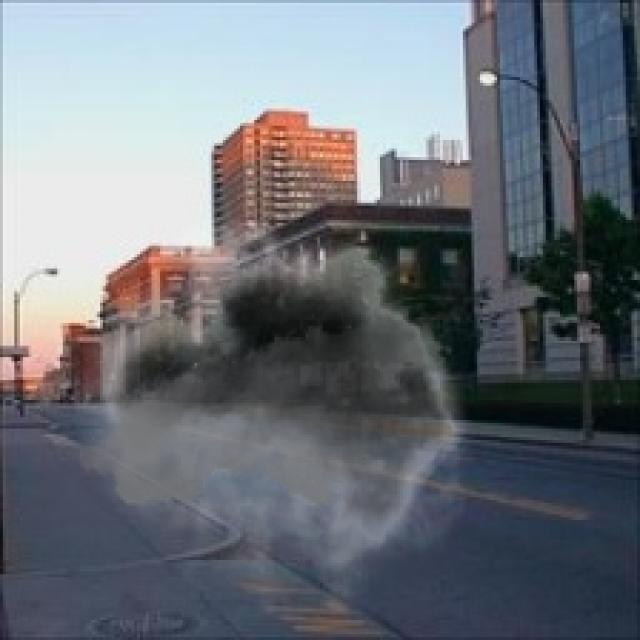Smoke: (74, 200, 489, 617)
